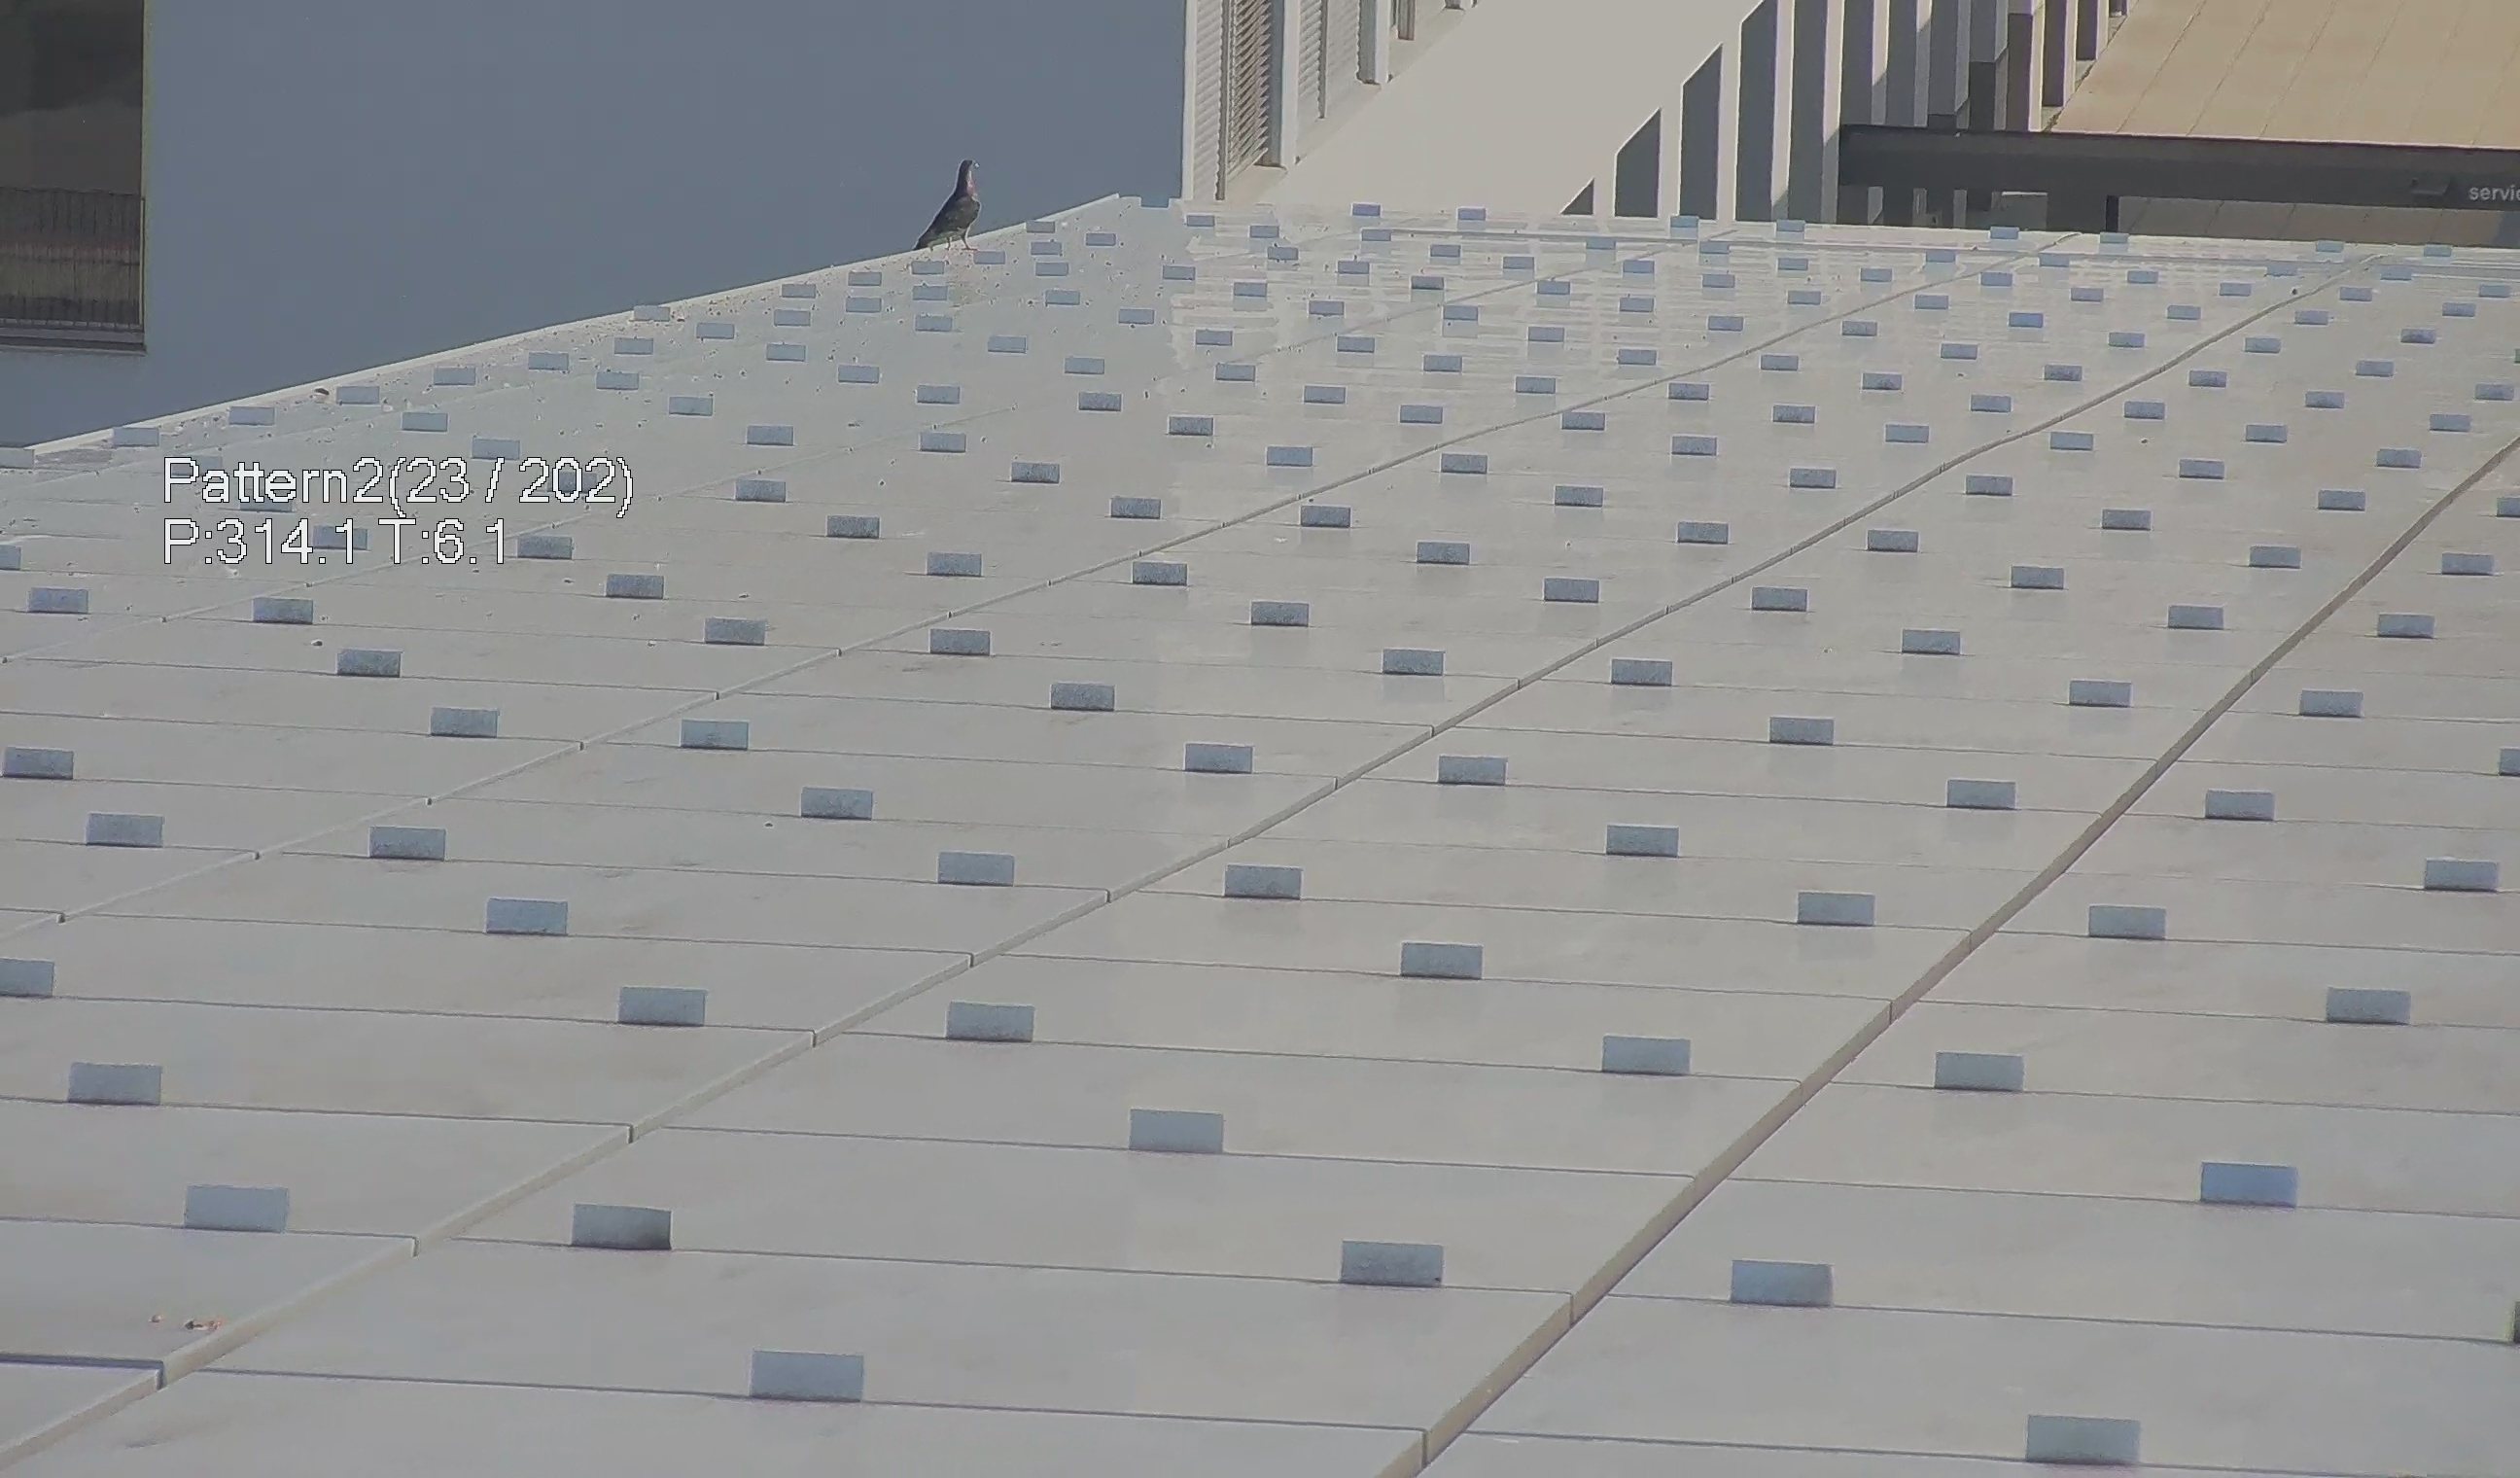Pigeon: (893, 144, 983, 262)
